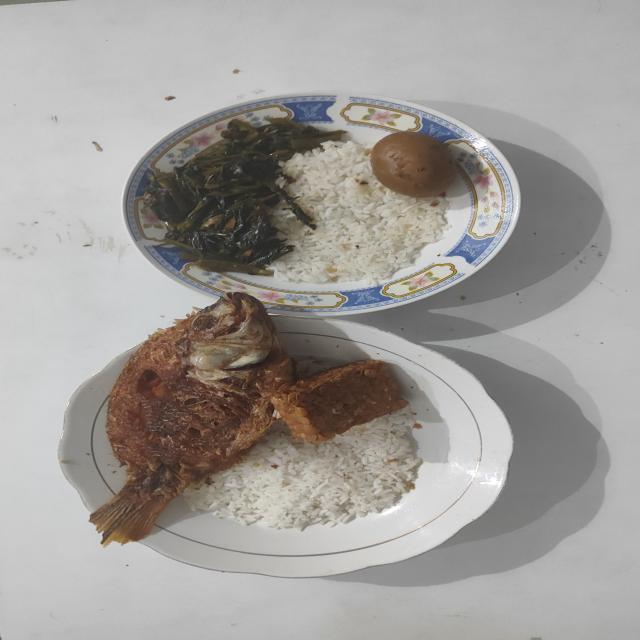ikan_mujair: (90, 292, 296, 545)
nasi_putih: (184, 407, 422, 530), (270, 140, 450, 284)
tempe_goreng: (270, 360, 408, 442)
tumis_kangkung: (144, 118, 343, 276)
